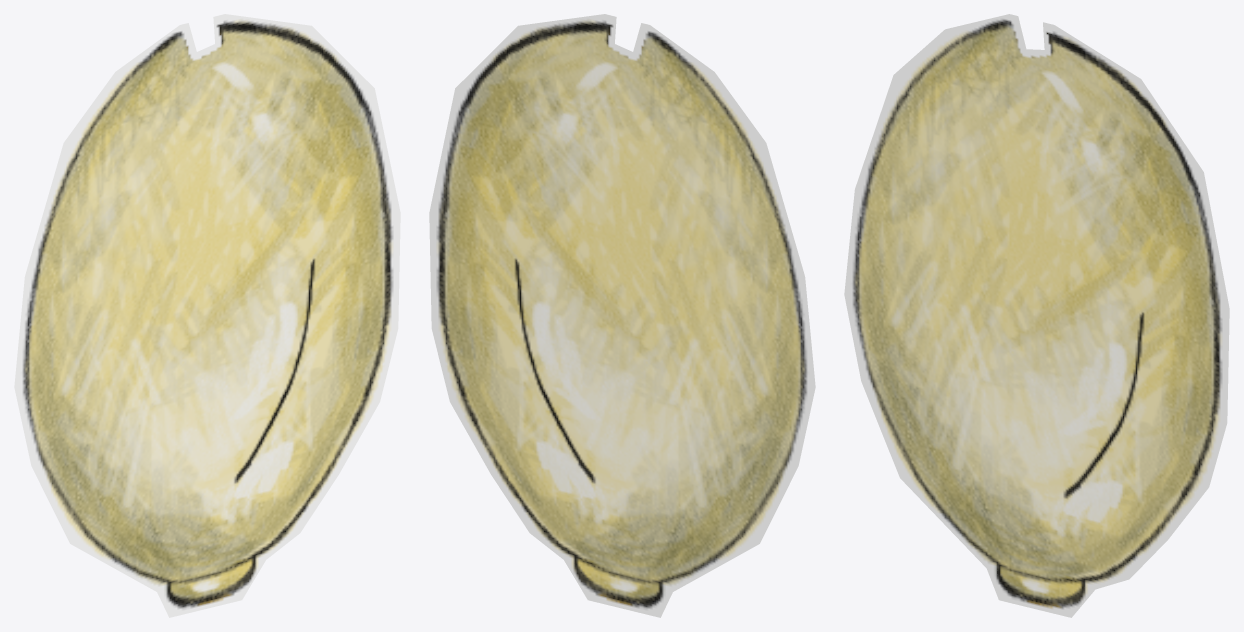
3 views of the same model, side by side, from view 1: azimuth 30°, elevation 25°; view 2: azimuth 150°, elevation 25°; view 3: azimuth 330°, elevation 25° (orthographic).
Visible parts, largest first — view 1: Plane; view 2: Plane; view 3: Plane.
Boxes of the visible parts, bbox=[...] form: Plane: bbox=[14, 14, 400, 617]; Plane: bbox=[429, 14, 815, 617]; Plane: bbox=[844, 14, 1229, 617].
Bounding box in the file's own units: 2.66 × 3.88 × 0.
Materials: 1 (1 with a texture image).
